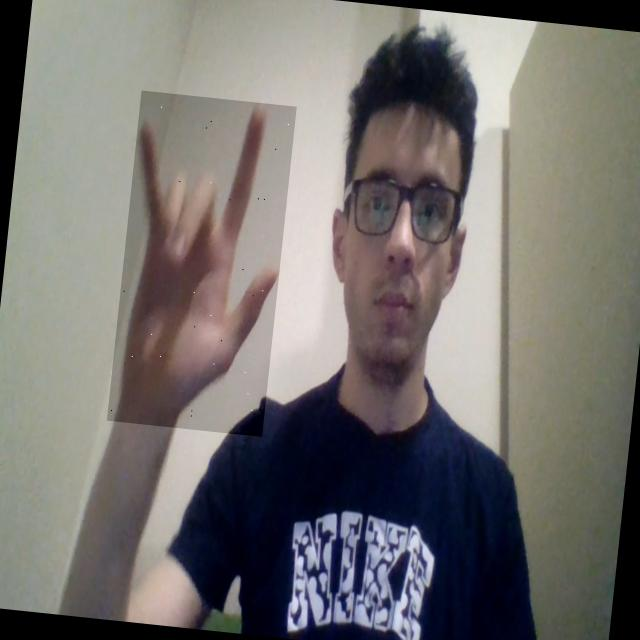iloveyou: (106, 90, 296, 437)
